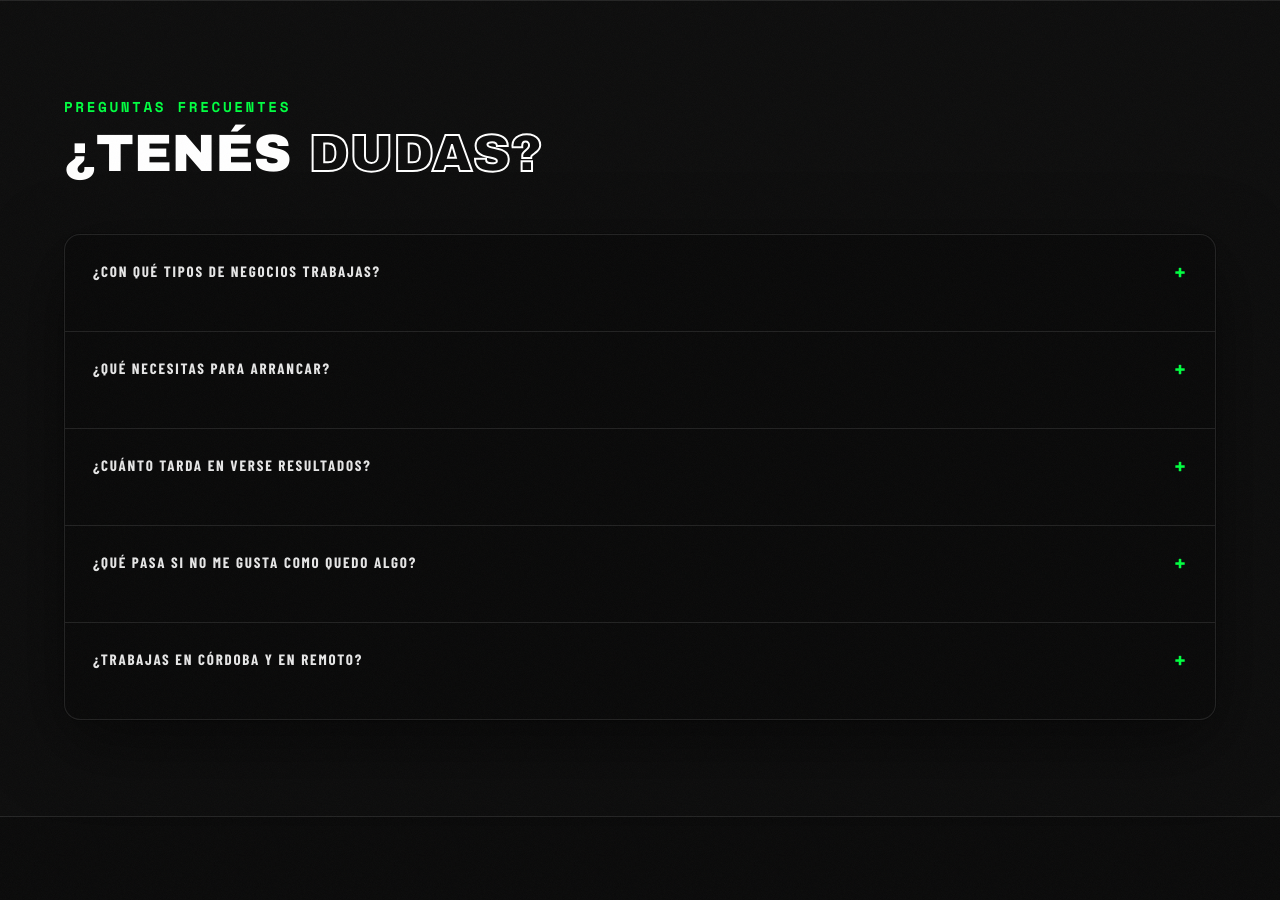
Test case: Faqs › toggles a single accordion item at a time
Click the button "¿Con qué tipos de negocios trabajas? +" at {"x": 237, "y": 271}, box [65,235,1215,307]
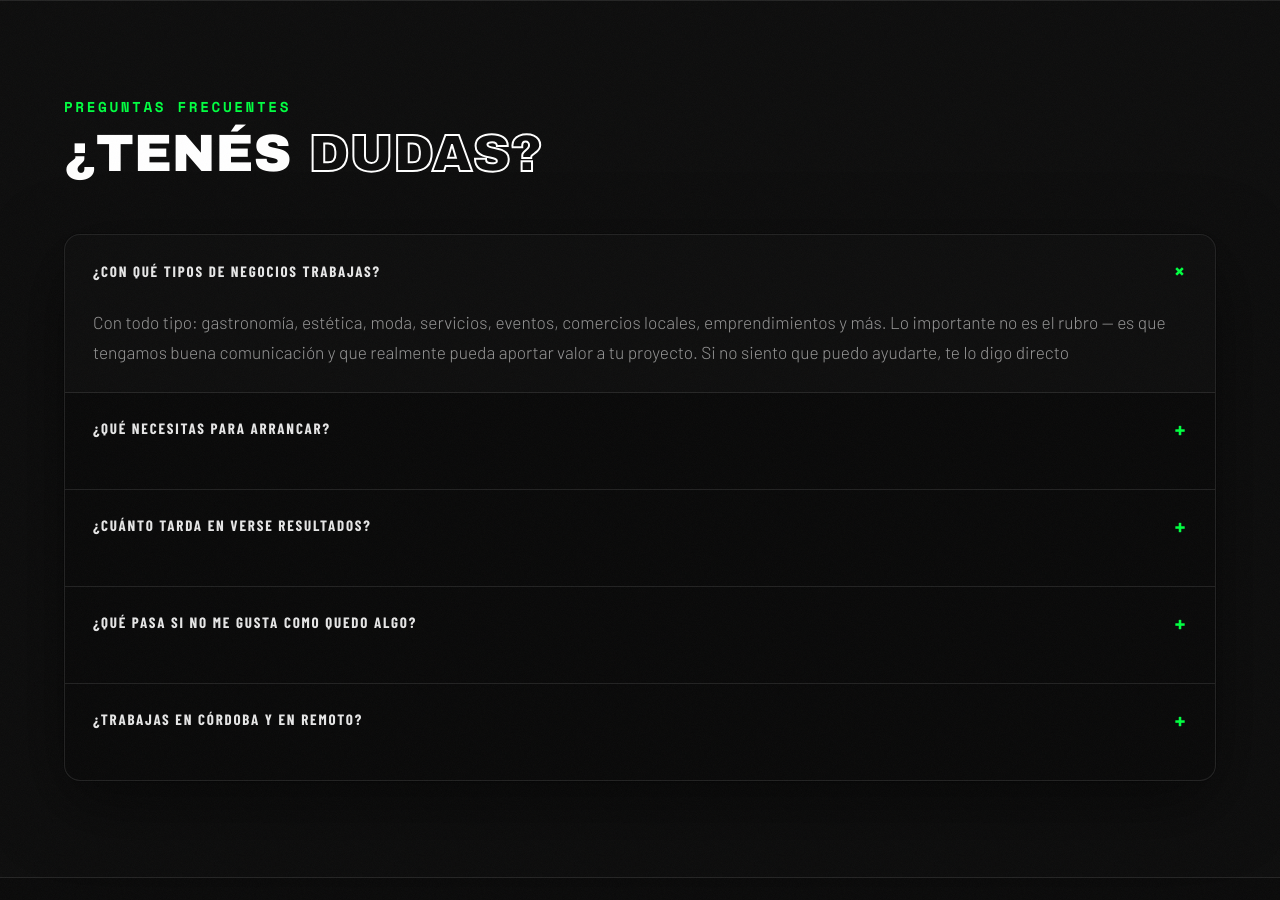
expect the button "¿Con qué tipos de negocios trabajas? +" is expanded: met, box [65,235,1215,307]
Click the button "¿Qué necesitas para arrancar? +" at {"x": 212, "y": 428}, box [65,392,1215,464]
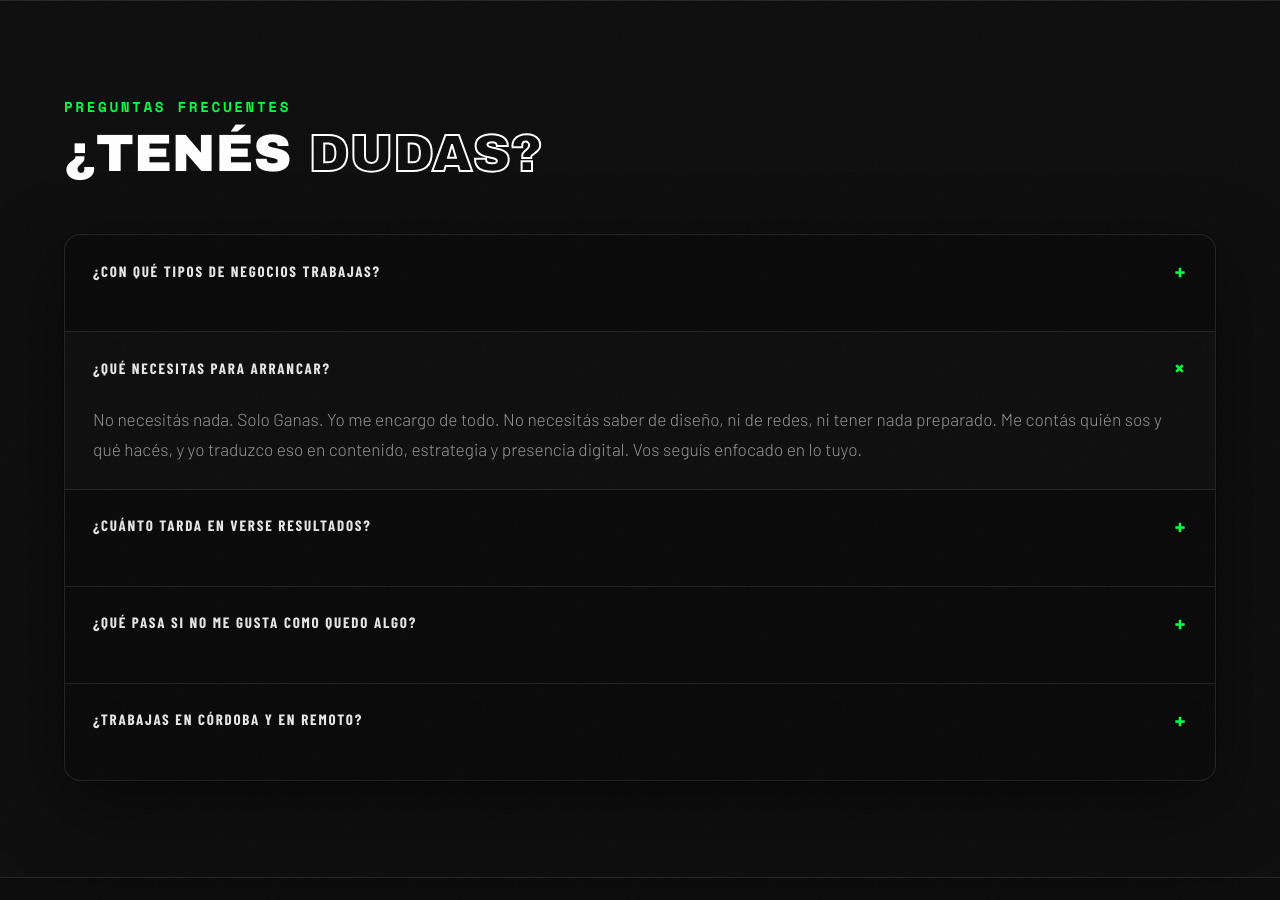
expect the button "¿Con qué tipos de negocios trabajas? +" is collapsed: met, box [65,235,1215,307]
expect the button "¿Qué necesitas para arrancar? +" is expanded: met
Click the button "¿Qué necesitas para arrancar? +" at {"x": 212, "y": 368}, box [65,332,1215,404]
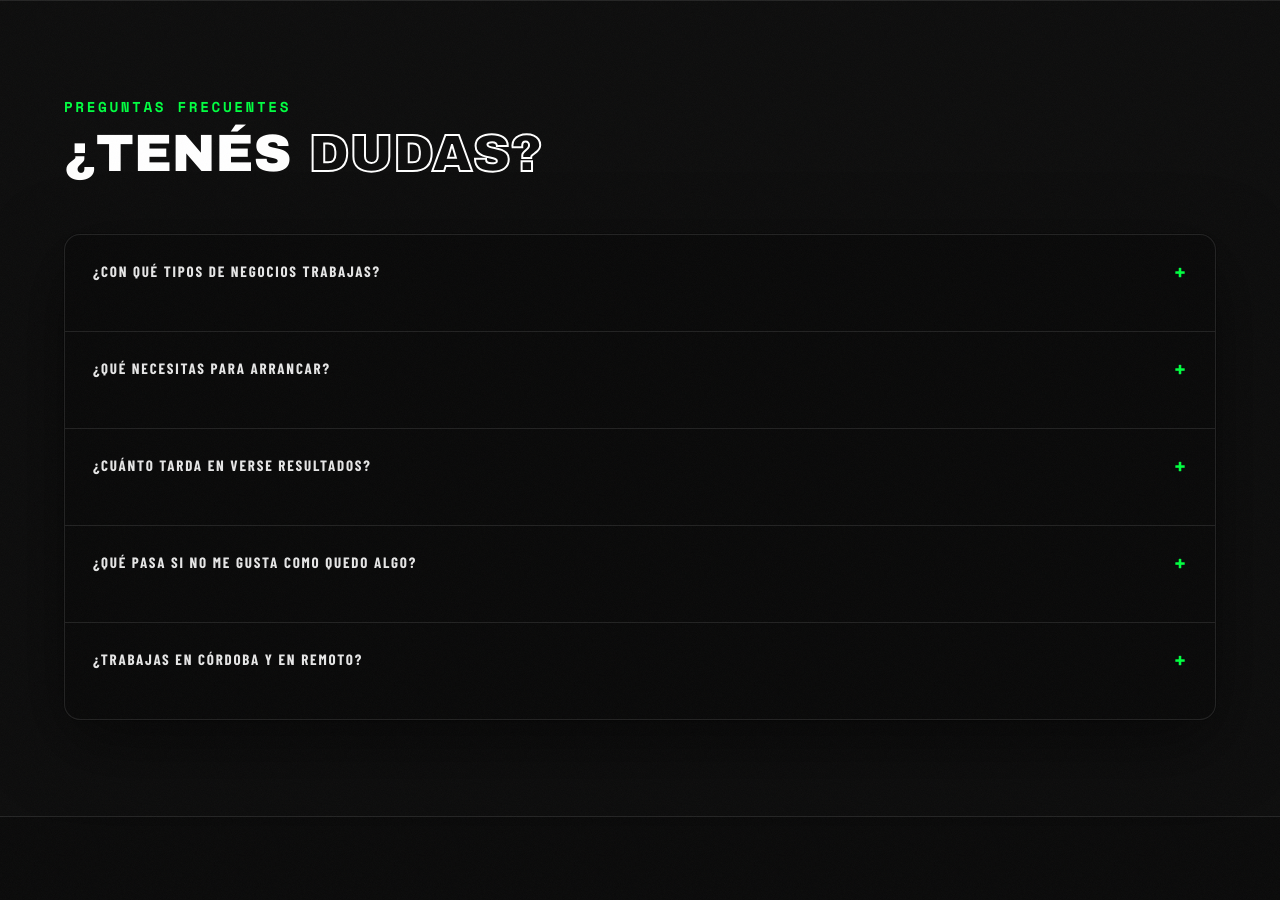
expect the button "¿Qué necesitas para arrancar? +" is collapsed: met, box [65,332,1215,404]
